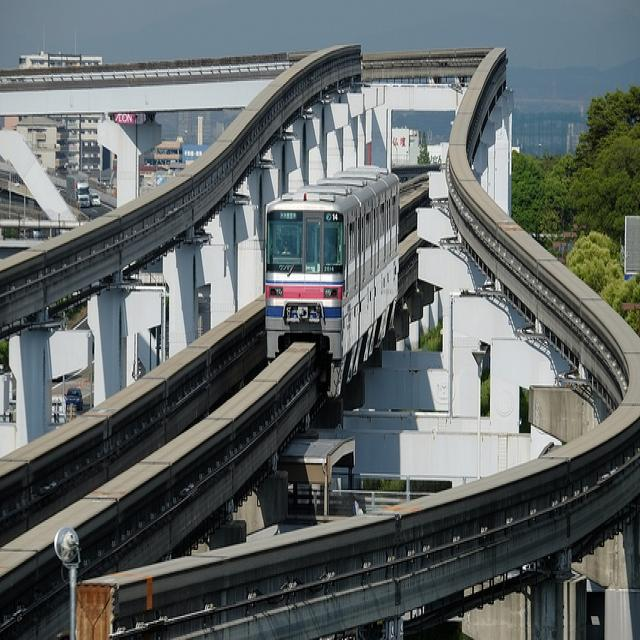Vehicle: (66, 169, 92, 209), (66, 386, 83, 409), (66, 388, 83, 409), (90, 193, 100, 206)
